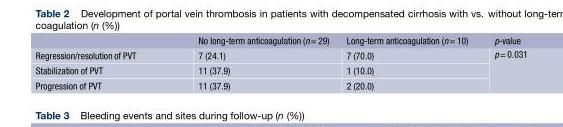table: (34, 34, 526, 90)
table column: (166, 34, 337, 90), (337, 34, 480, 90), (34, 34, 166, 90), (480, 34, 526, 90)
table column header: (34, 34, 526, 46)
table row: (34, 46, 526, 62), (34, 62, 526, 77), (34, 77, 526, 90), (34, 34, 526, 46)
table spanning cell: (480, 46, 526, 90)
